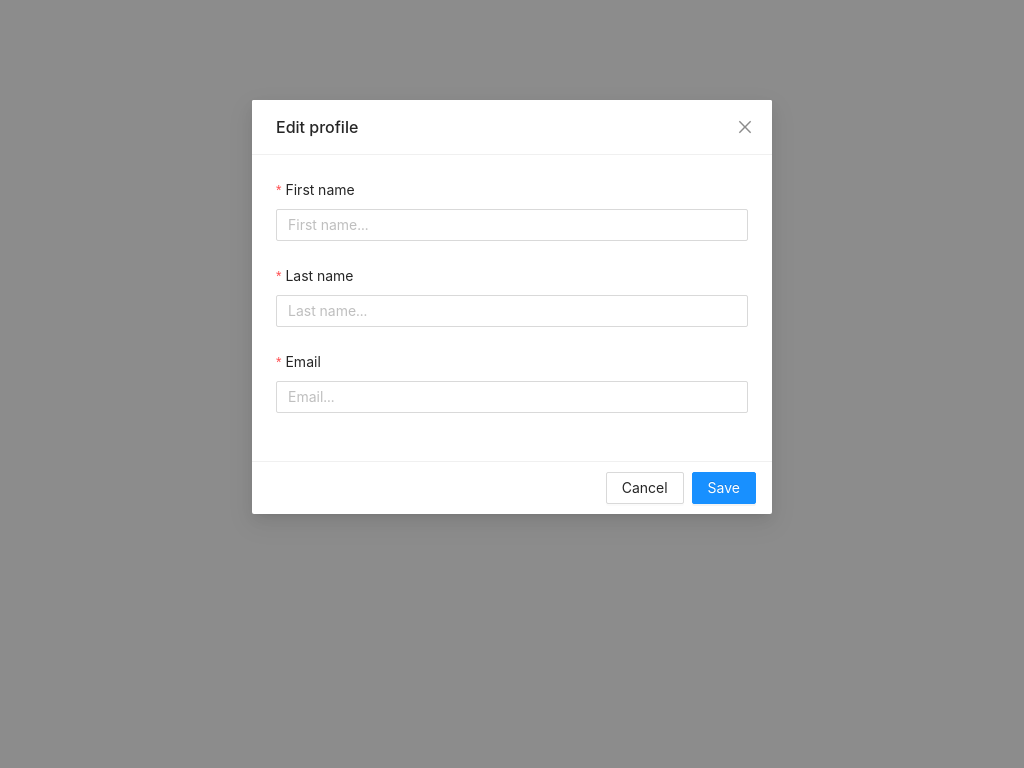
<EditProfileForm /> render › Should render with error messages
Clear the field with placeholder "First name..." at (512, 225), box left=276, top=209, right=748, bottom=241
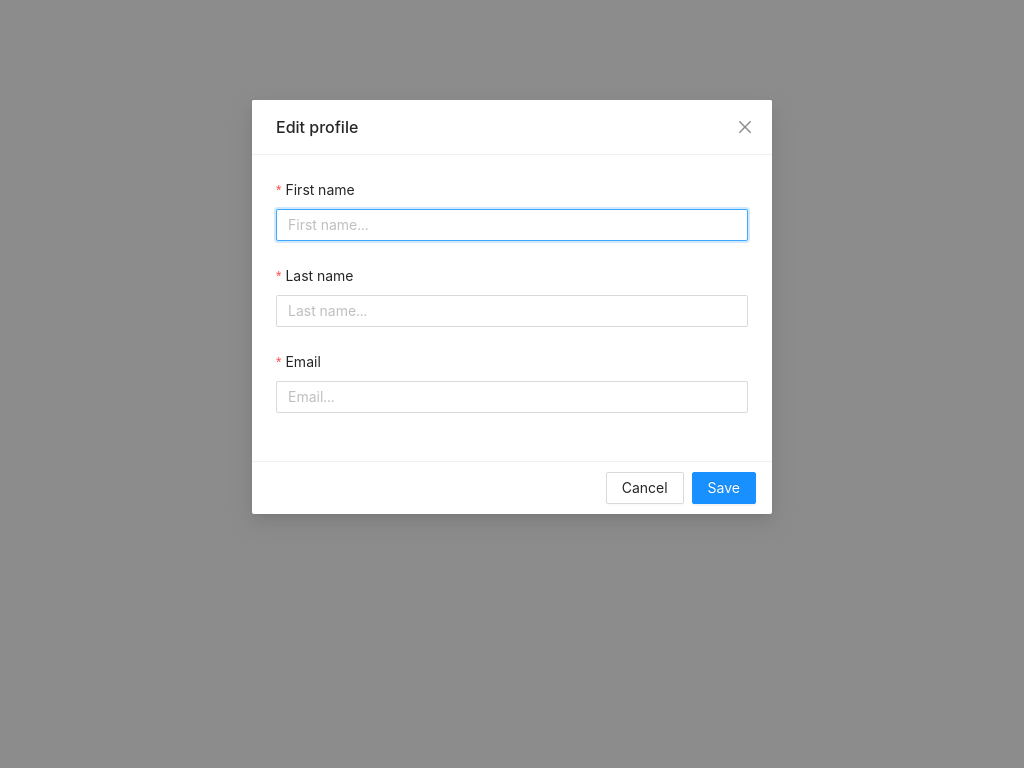
Clear the field with placeholder "Last name..." at (512, 311), box left=276, top=295, right=748, bottom=327
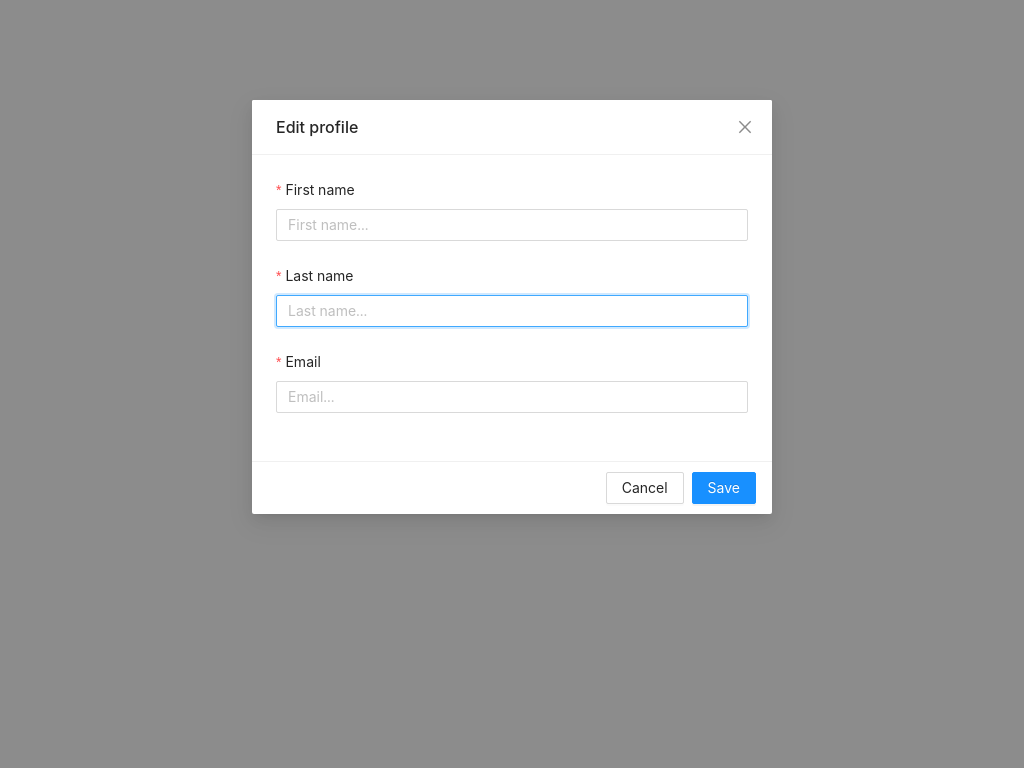
Clear the field with placeholder "Email..." at (512, 397), box left=276, top=381, right=748, bottom=413
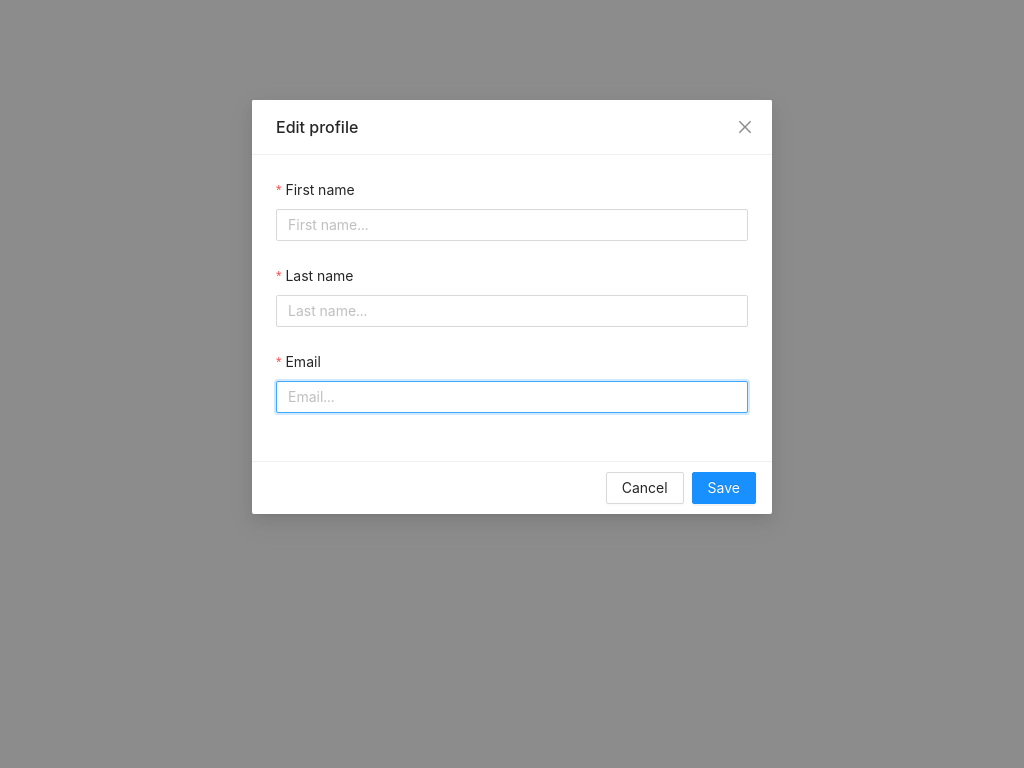
Click the button "Save" at (724, 488), box left=692, top=472, right=756, bottom=504
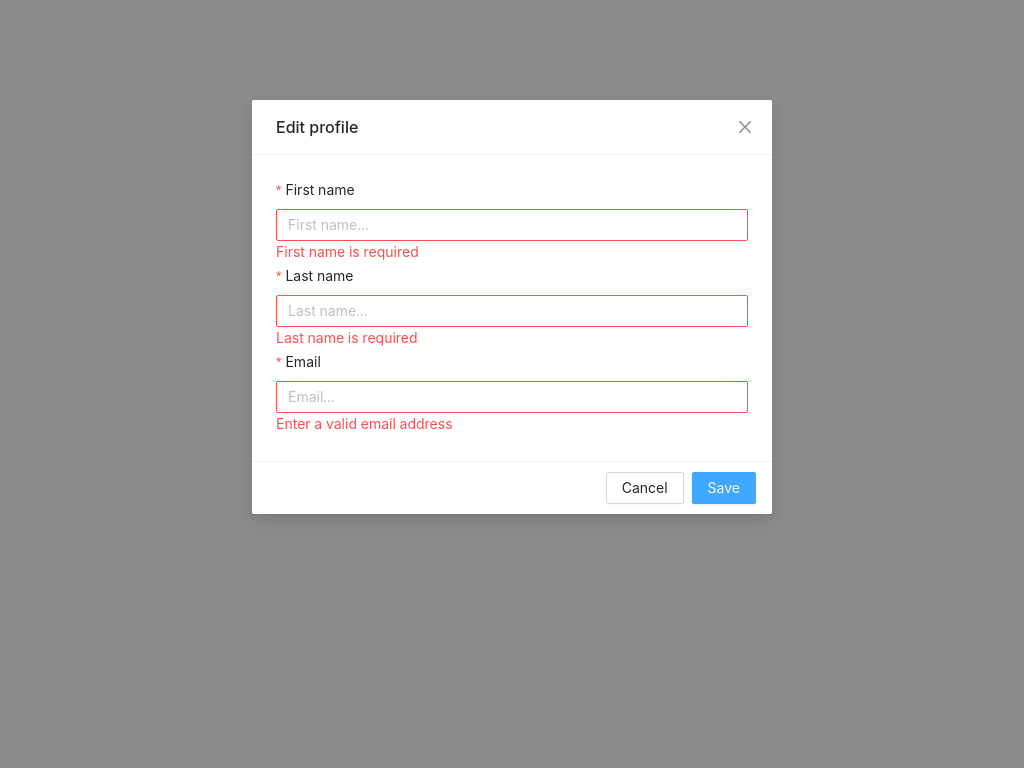
Check: the text "First name is required" is shown 2 times, box left=276, top=243, right=419, bottom=260; left=276, top=329, right=418, bottom=346
Check: the text "First name is required" is shown, box left=276, top=243, right=419, bottom=260
Check: the text "Last name is required" is shown, box left=276, top=329, right=418, bottom=346
